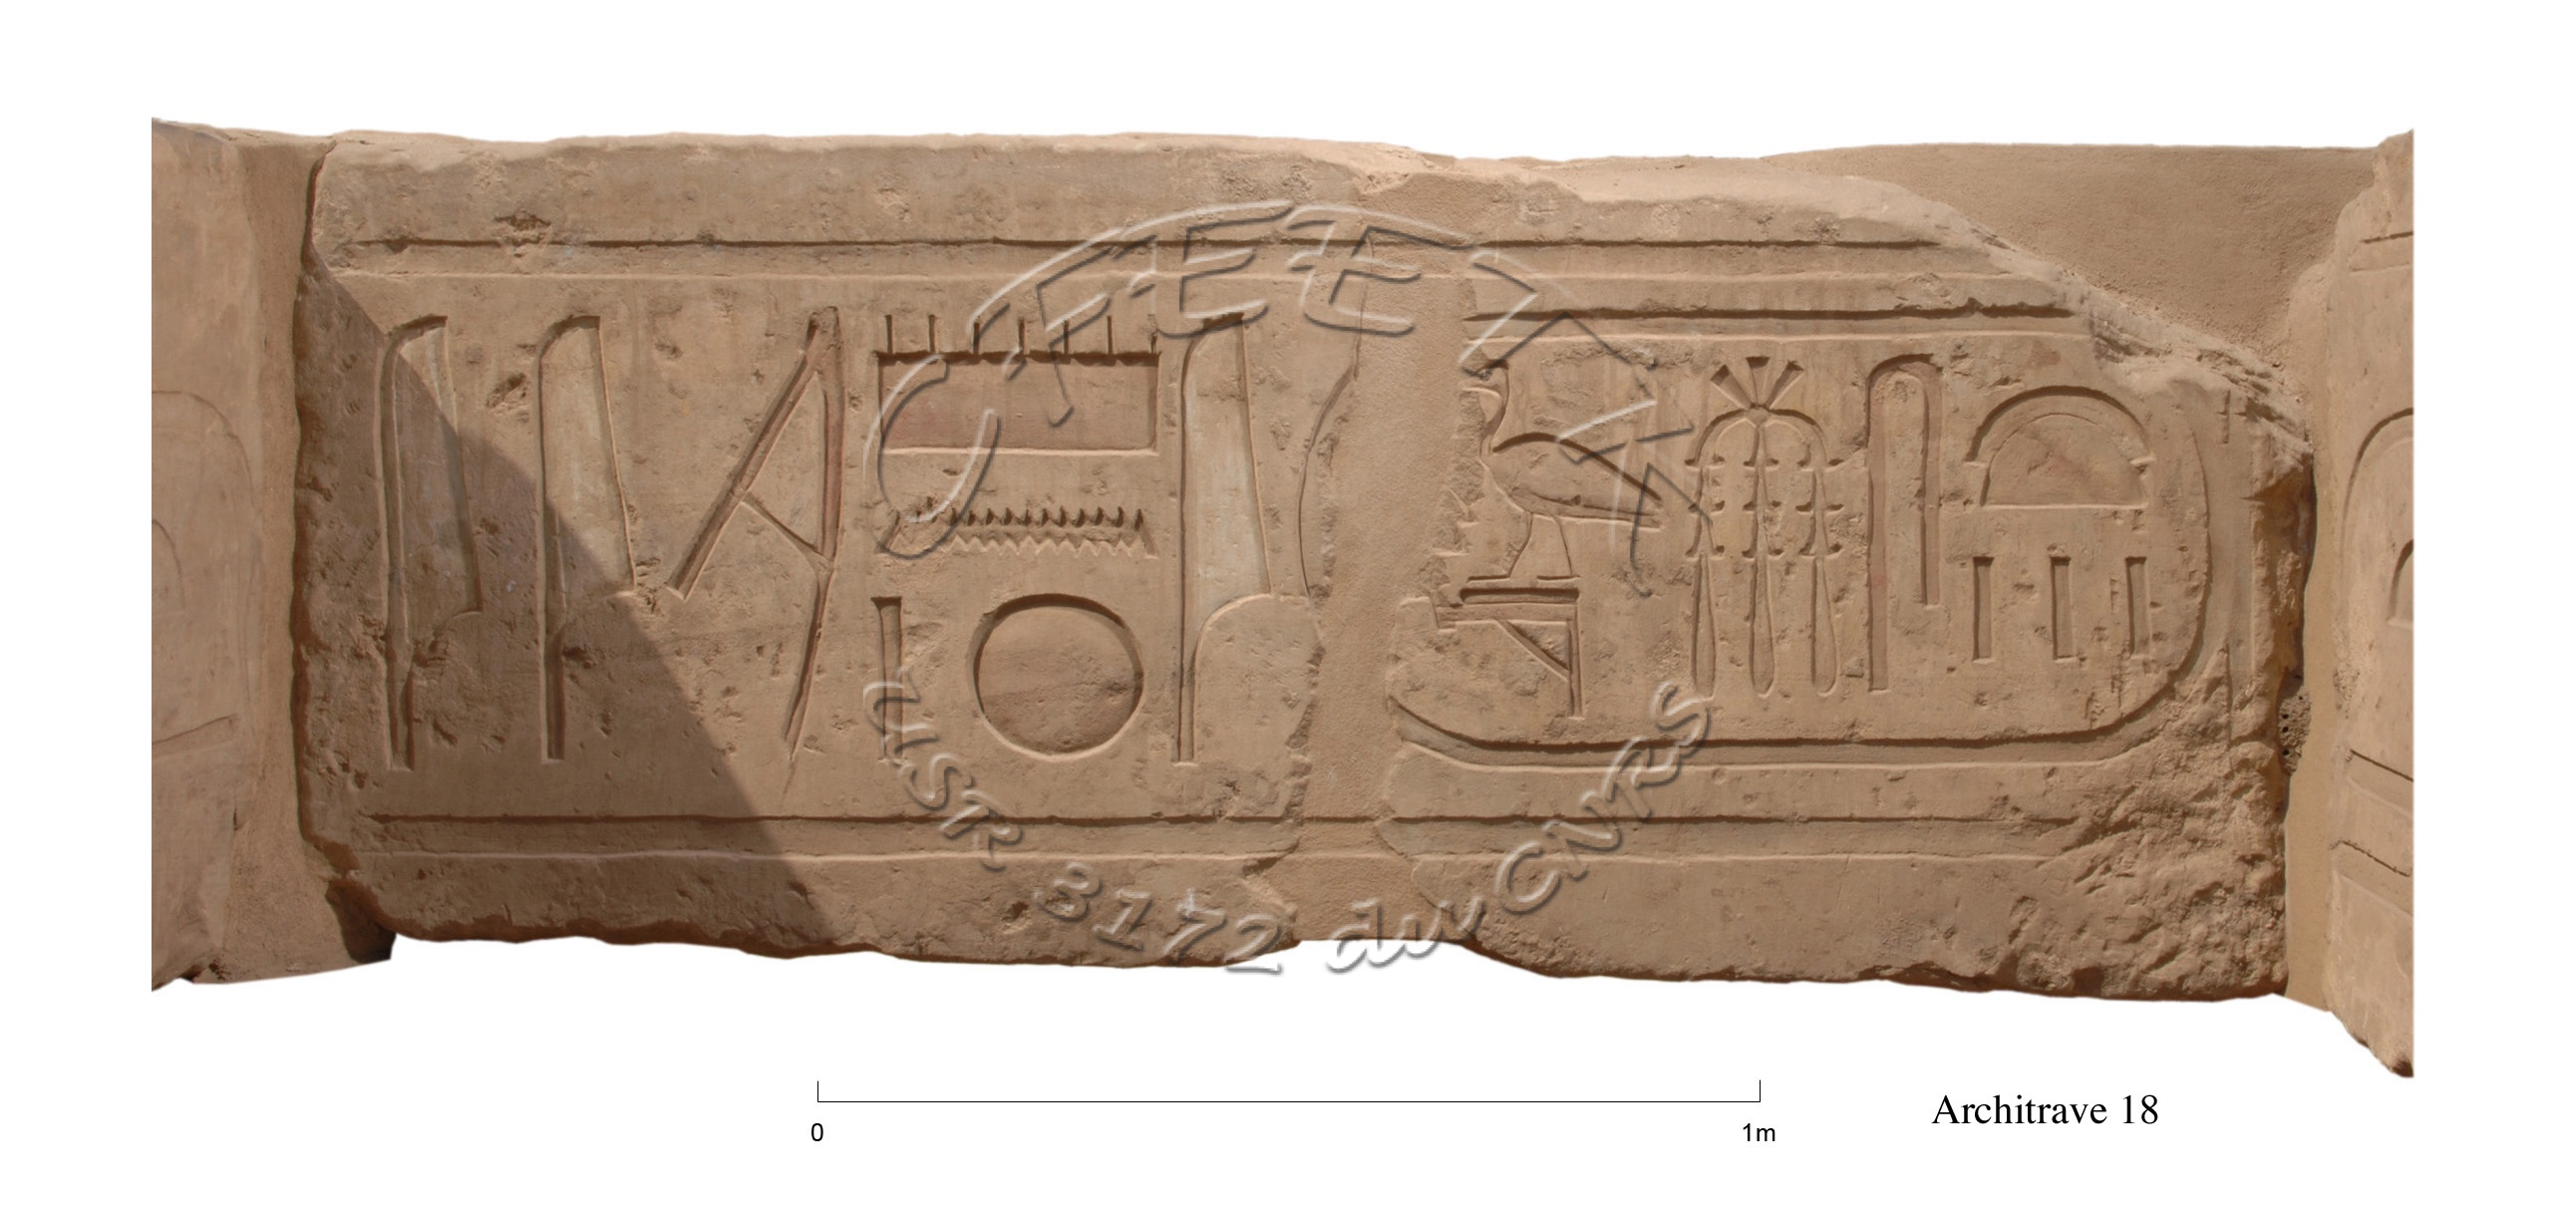M17: (490, 296, 685, 791), (343, 291, 511, 791)
N35: (1158, 304, 1295, 790), (869, 496, 1170, 584)
